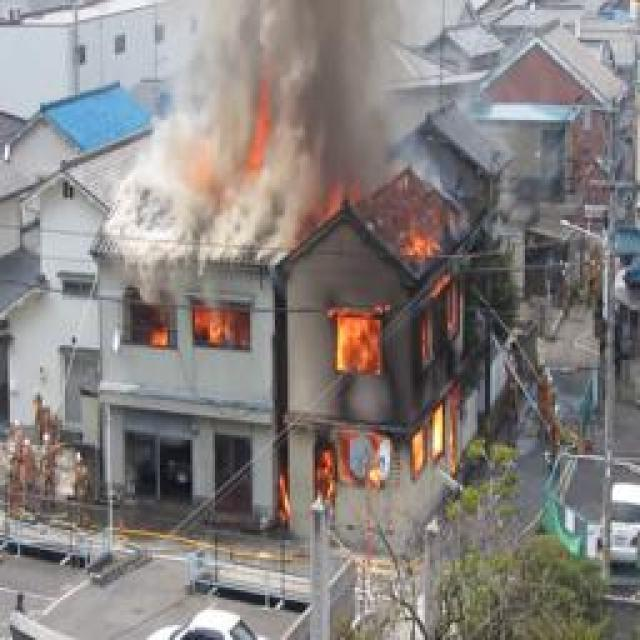Fire: (312, 184, 489, 503), (185, 109, 278, 200), (121, 300, 254, 347)
